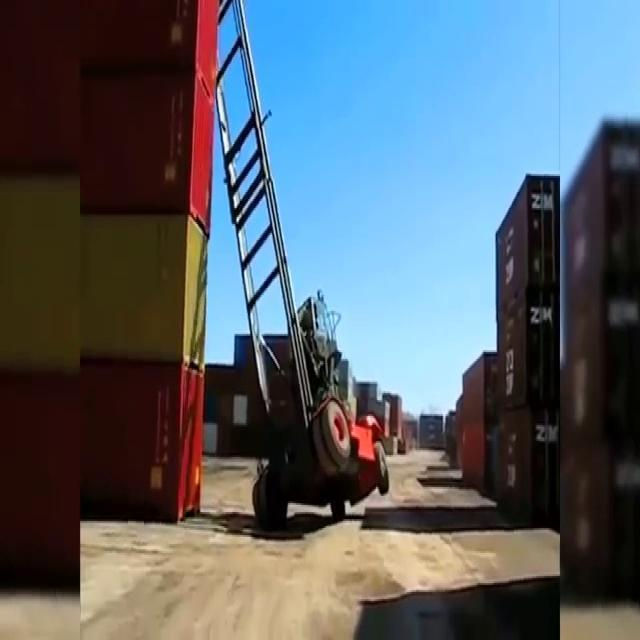forklift: (249, 283, 392, 537)
